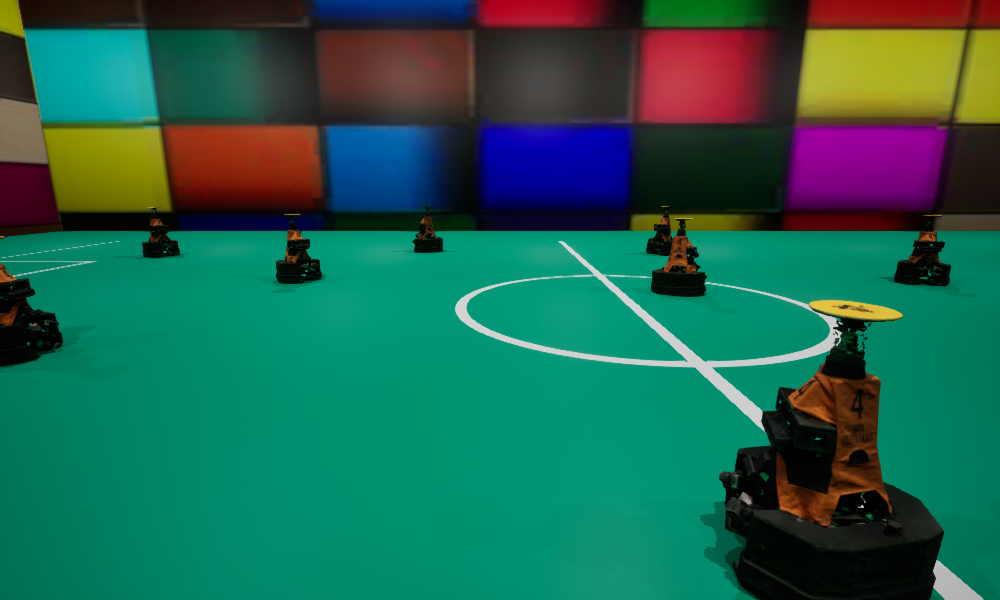0 orange robot TechUnited: (719, 300, 943, 599), (0, 236, 62, 366), (651, 218, 706, 296), (894, 215, 950, 285), (276, 214, 321, 283), (142, 207, 179, 257), (412, 206, 442, 252), (646, 206, 672, 254)
